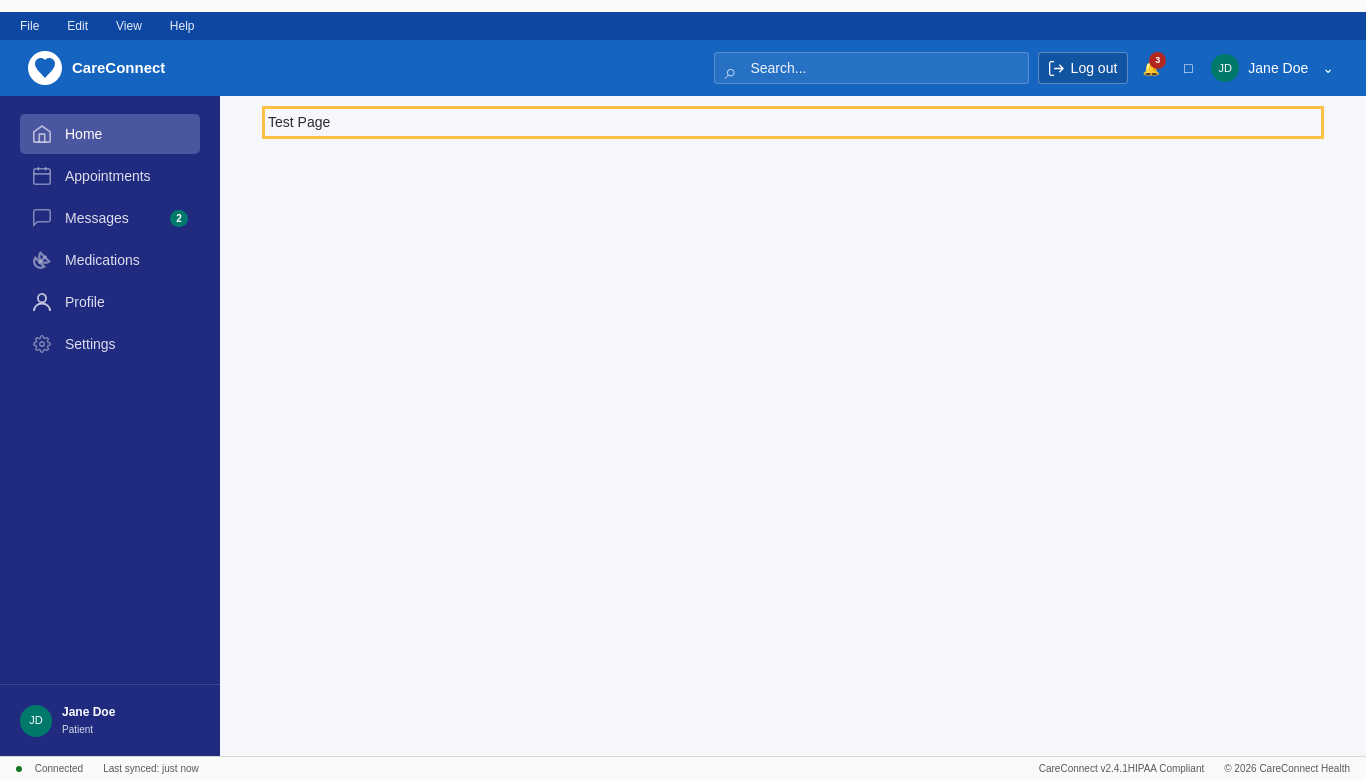
Shell › context menu actions navigate correctly
Right-click the element showing "Test Page" at (299, 122), box [268, 114, 330, 130]
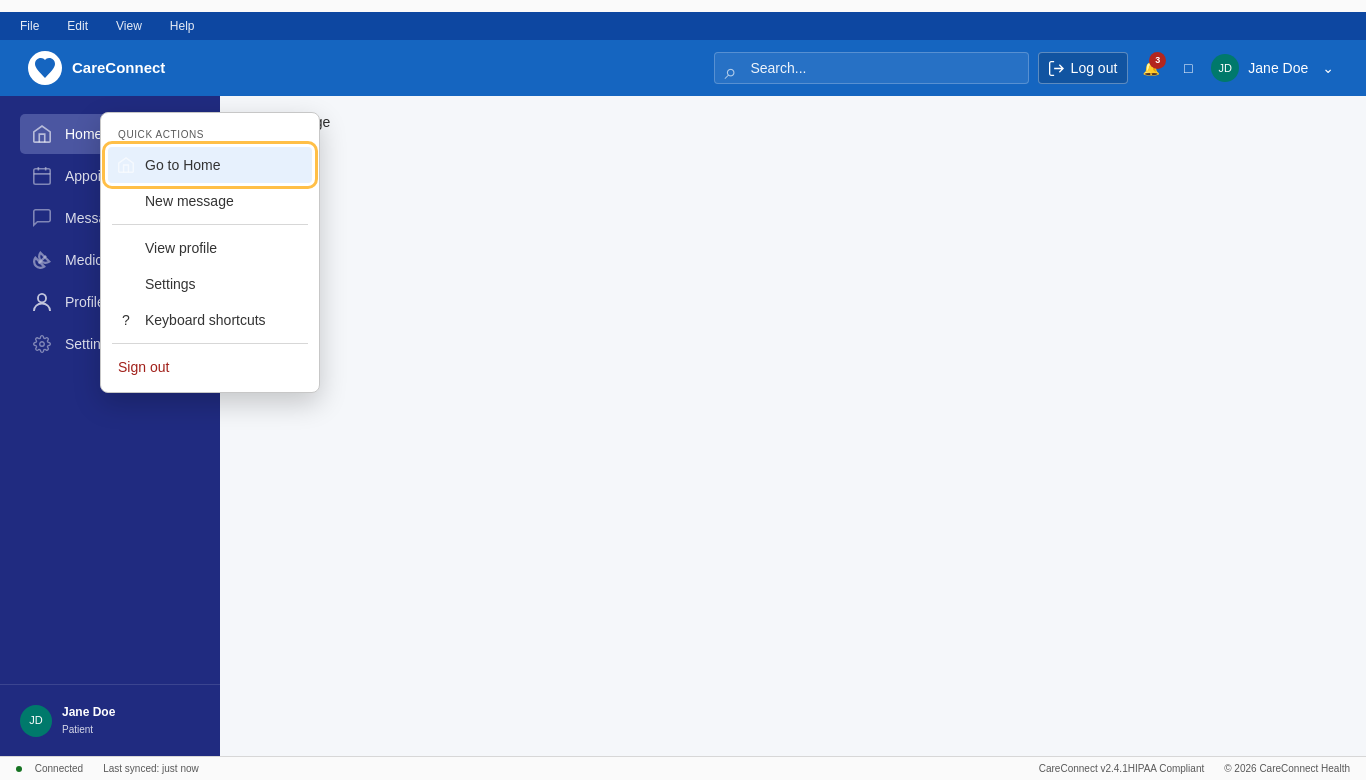
Click the menu item "New message". click: (210, 201)
box: [108, 183, 312, 219]
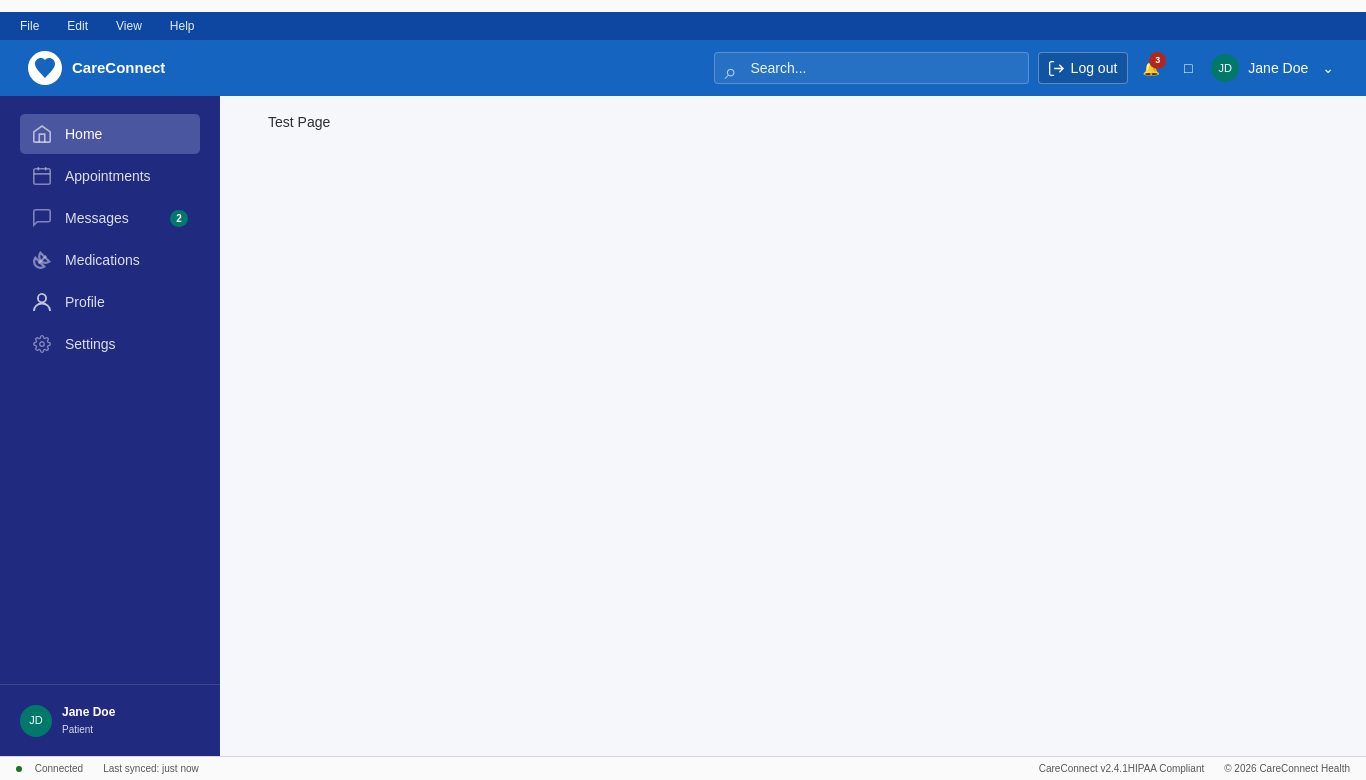
Result: the menu is gone
